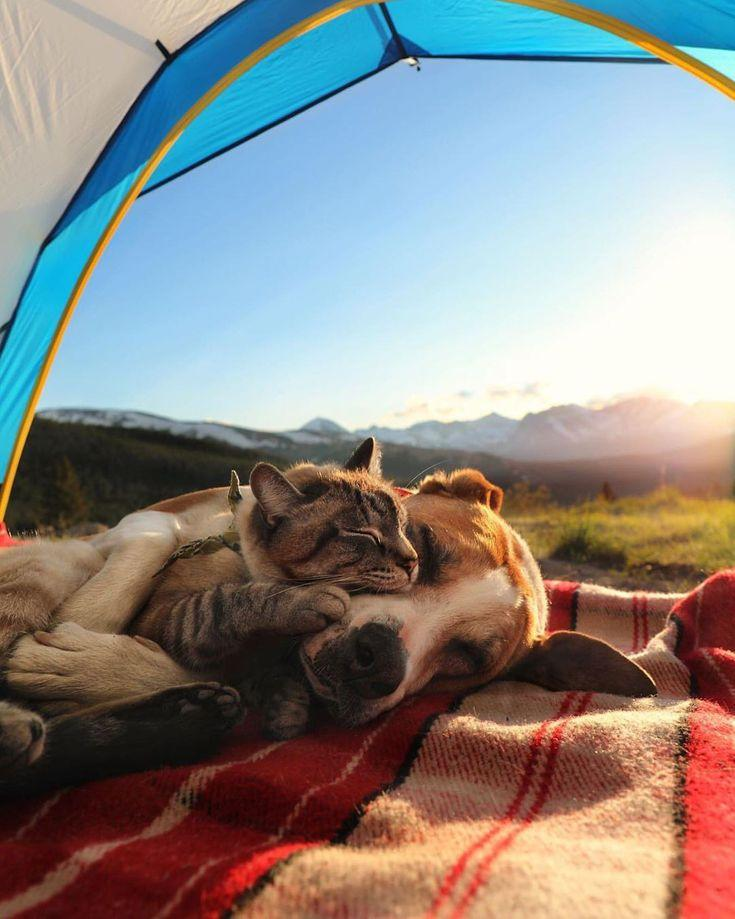kedo: (248, 435, 416, 600)
